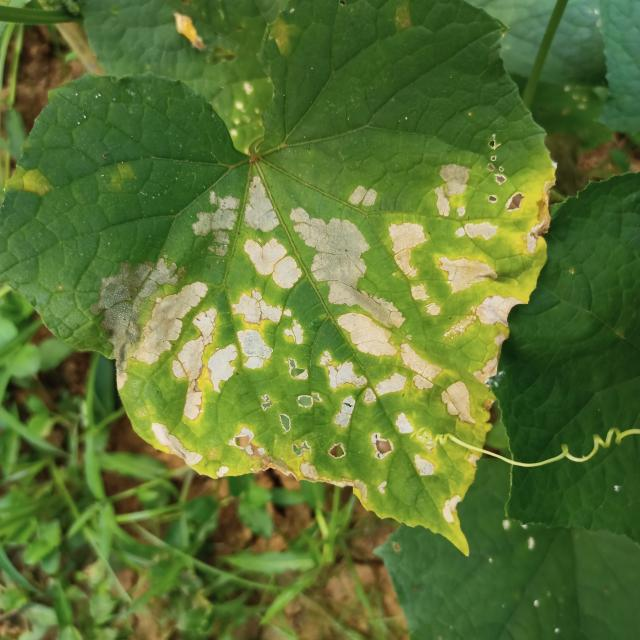disease_cucumber: (91, 155, 577, 520), (1, 148, 65, 206)
